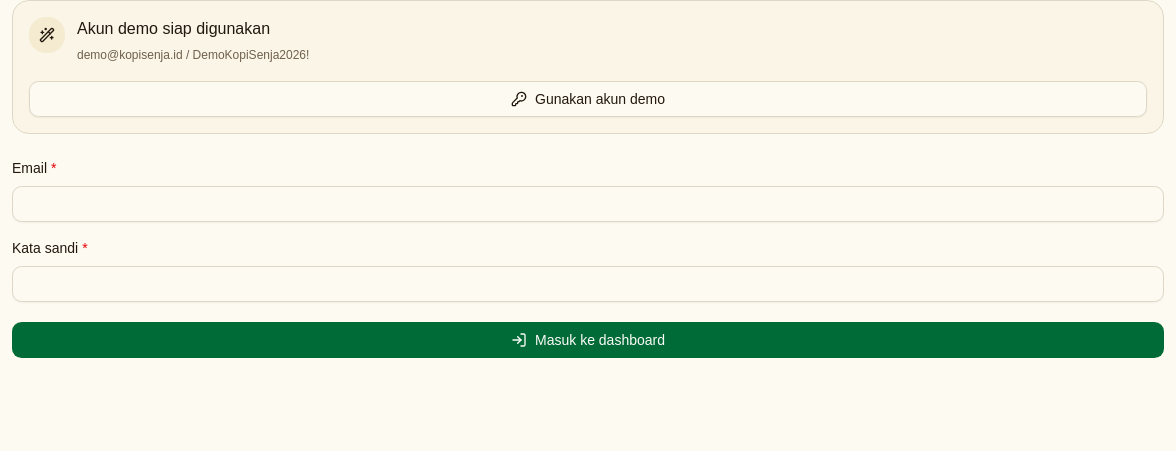
Scenario: LoginForm › shows a user-safe message when the same-origin request fails
Click the button "Gunakan akun demo" at (588, 99), box 29,81 -> 1147,117
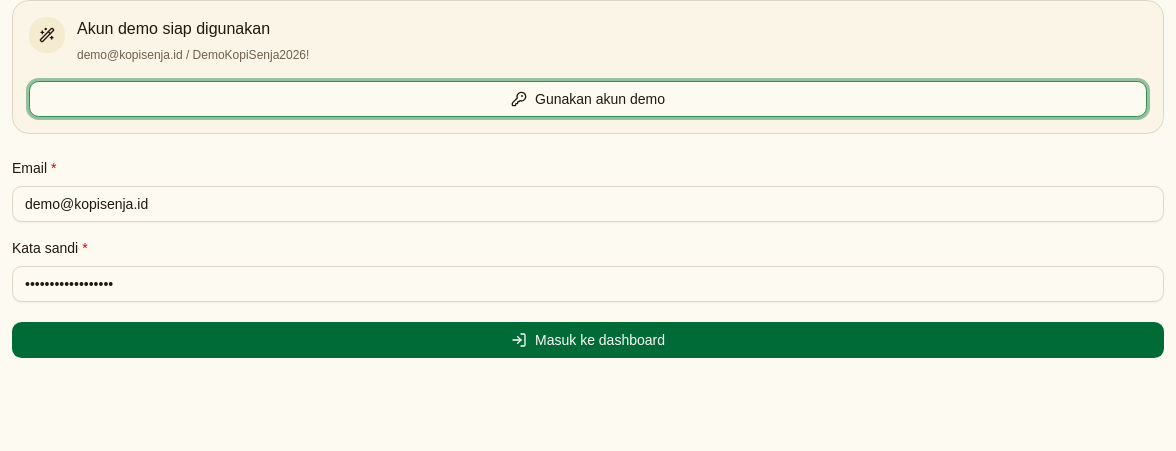
Click the button "Masuk ke dashboard" at (588, 340), box 12,322 -> 1164,358
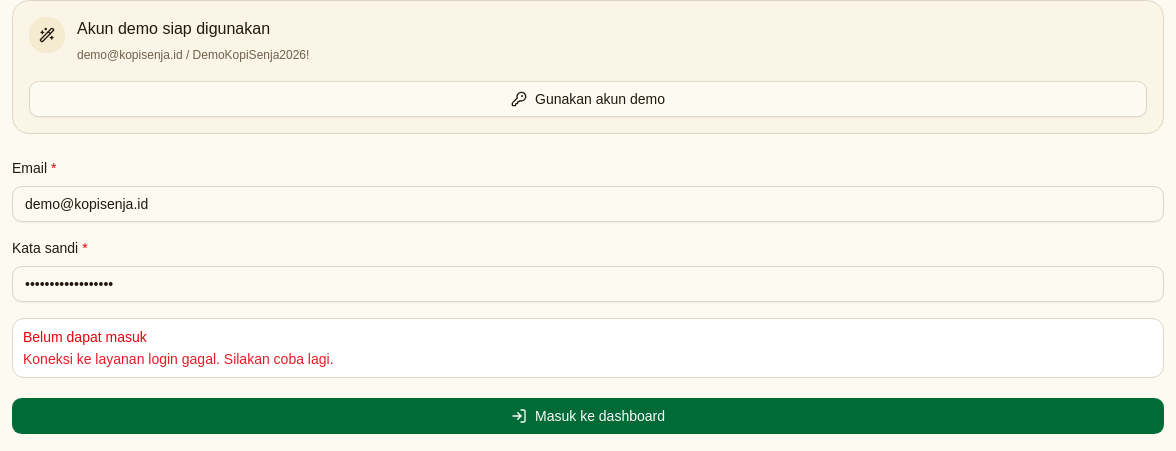
Expected: the text "Koneksi ke layanan login gagal. Silakan coba lagi." is shown, 23,351 -> 334,367
